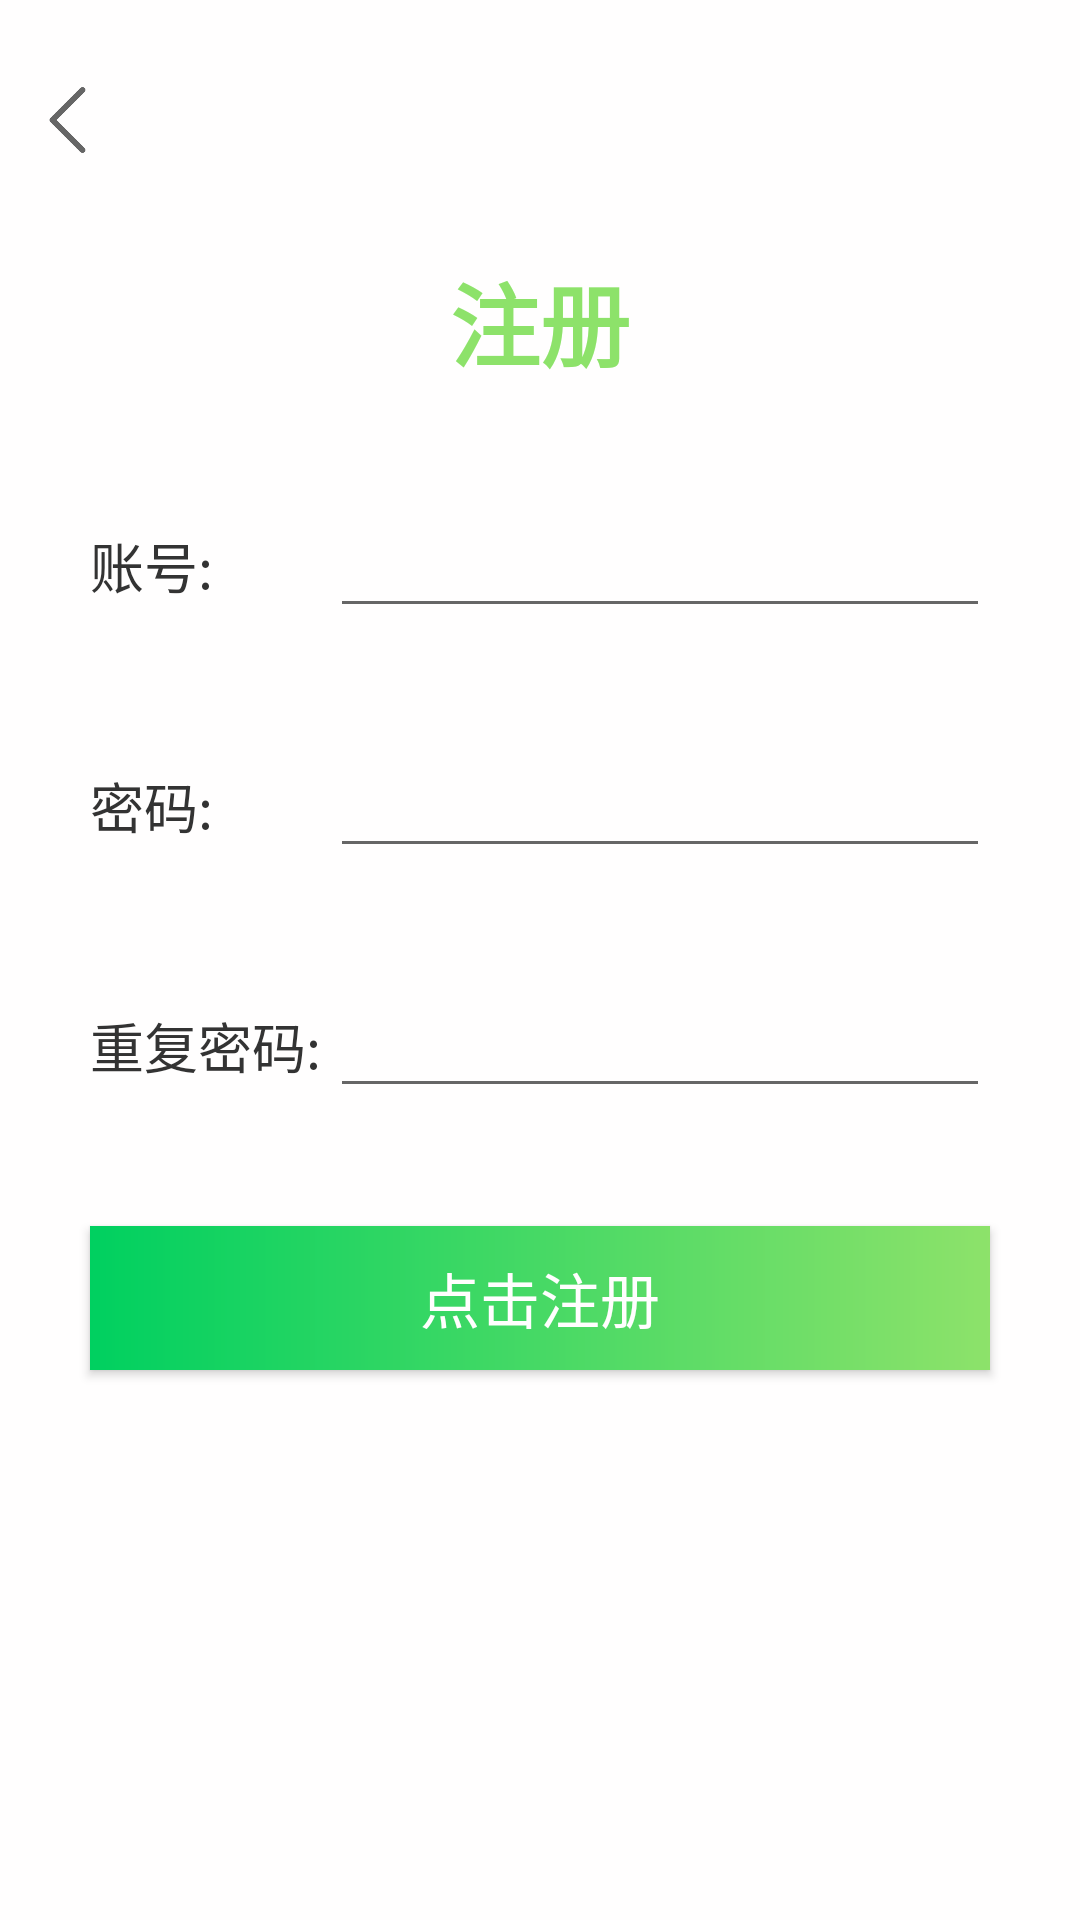

Where icons sit on this 1080w x 1920h app screen, as region(x1, y1, x2, y2):
back: region(49, 87, 86, 153)
